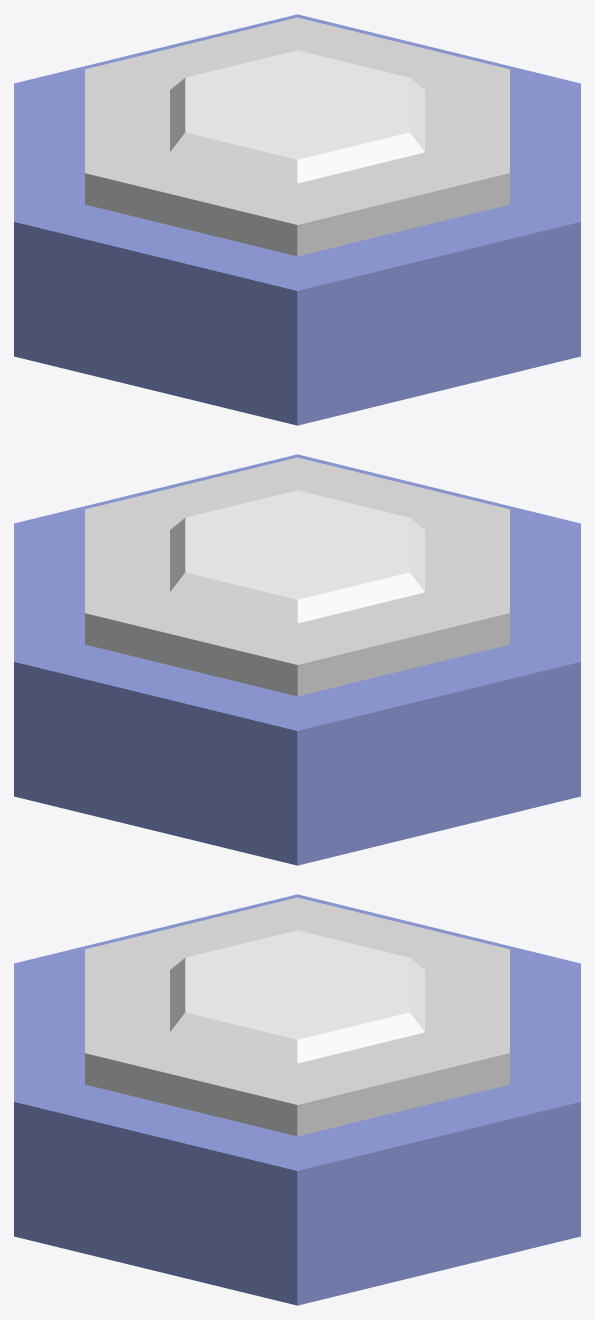
Rendered from cellwithcoretemplate.glb.
The picture shows the model from 3 angles, top to bottom: view 1: azimuth 30°, elevation 25°; view 2: azimuth 150°, elevation 25°; view 3: azimuth 270°, elevation 25°; orthographic projection.
Visible parts, largest first — view 1: Cylinder.003, Cylinder, Sphere; view 2: Cylinder.003, Cylinder, Sphere; view 3: Cylinder.003, Cylinder, Sphere.
Boxes of the visible parts, x1,y1,x2,y2 form: Cylinder.003: (14, 14, 580, 425); Cylinder: (85, 17, 509, 256); Sphere: (170, 50, 424, 183); Cylinder.003: (14, 454, 580, 865); Cylinder: (85, 457, 509, 696); Sphere: (170, 490, 424, 623); Cylinder.003: (14, 894, 580, 1305); Cylinder: (85, 897, 509, 1136); Sphere: (170, 930, 424, 1063).
Bounding box in the file's own units: 2 × 0.6143 × 1.73.
